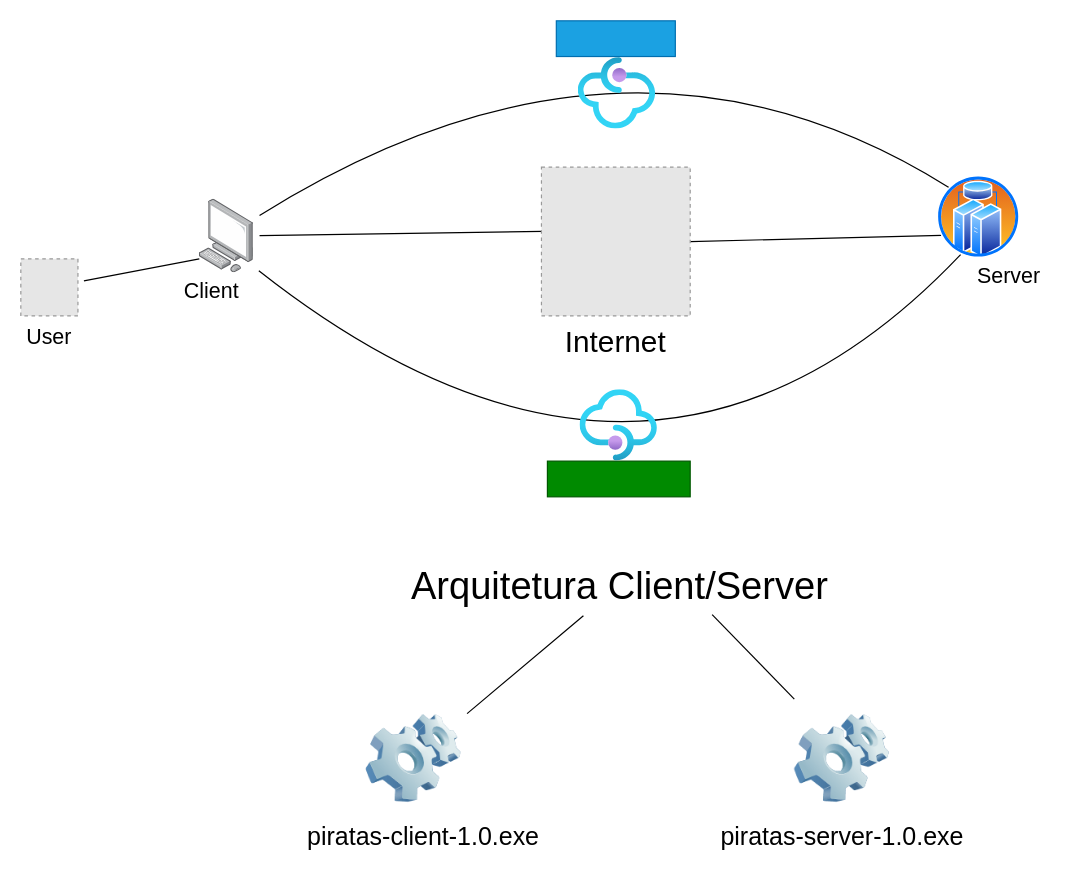
The diagram is 1071 pixels wide and 875 high, and some of its shapes have lost their labels. Grey dashed boxes stand in for pictures. The centre of each missing label's shape, as x and y in pixels:
"REQUEST" belongs at [615,38].
"RESPONSE" belongs at [618,478].
